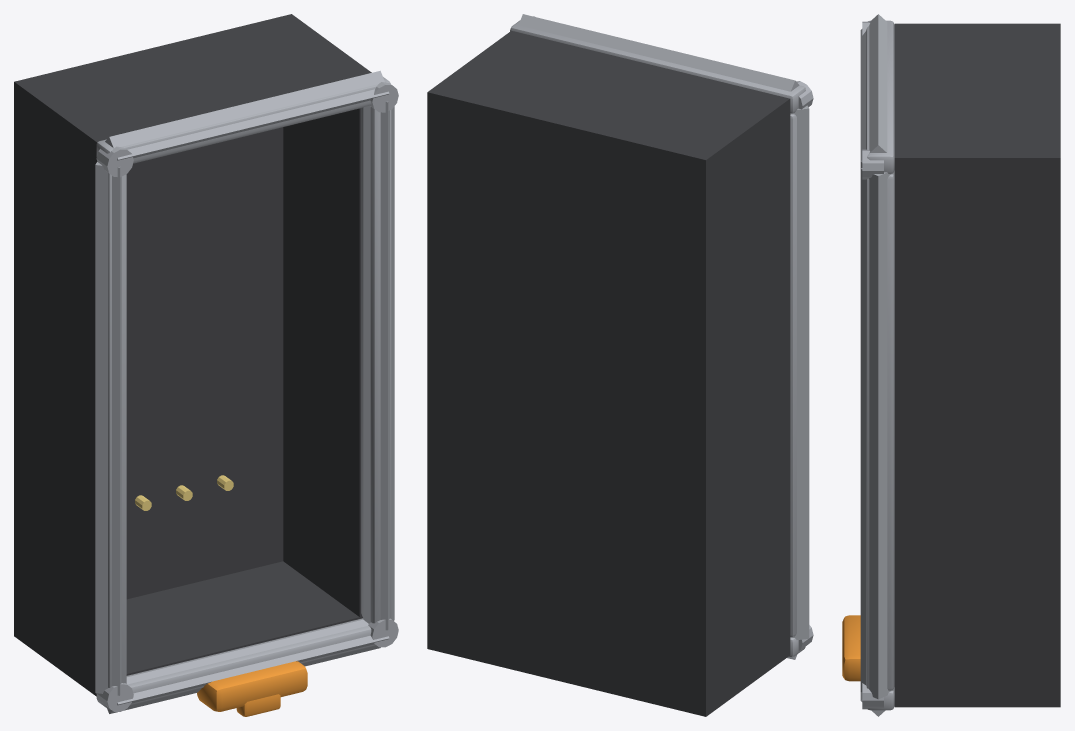
File: BAY.glb
The picture shows the model from 3 angles, left to right: view 1: azimuth 30°, elevation 25°; view 2: azimuth 150°, elevation 25°; view 3: azimuth 270°, elevation 25°; orthographic projection.
Parts seen in each view (by area): view 1: BAY_floor, BAY_wellX.001, BAY_wellX, BAY_wellY, BAY_wellY.001, BAY_chamX.001, BAY_chamX, BAY_collarX, BAY_chamY, BAY_collarX.001, BAY_chamY.001, BAY_collarY.001 (+6 smaller); view 2: BAY_floor, BAY_wellX.001, BAY_wellY, BAY_chamX.001, BAY_collarX.001, BAY_chamY, BAY_collarY, BAY_wellY.001; view 3: BAY_wellX, BAY_wellY, BAY_chamX, BAY_floor, BAY_collarX, BAY_chamY, BAY_wellY.001, BAY_collarY, BAY_latch, BAY_boss.
Boxes of the visible parts, x1=… form: BAY_floor: x1=14, y1=14, x2=294, y2=639; BAY_wellX.001: x1=17, y1=101, x2=97, y2=678; BAY_wellX: x1=283, y1=108, x2=362, y2=616; BAY_wellY: x1=17, y1=16, x2=371, y2=158; BAY_wellY.001: x1=17, y1=561, x2=362, y2=696; BAY_chamX.001: x1=95, y1=162, x2=121, y2=695; BAY_chamX: x1=363, y1=101, x2=394, y2=630; BAY_collarX: x1=361, y1=106, x2=391, y2=623; BAY_chamY: x1=105, y1=70, x2=389, y2=163; BAY_collarX.001: x1=108, y1=173, x2=126, y2=687; BAY_chamY.001: x1=107, y1=619, x2=389, y2=713; BAY_collarY.001: x1=96, y1=618, x2=376, y2=709; BAY_floor: x1=427, y1=89, x2=709, y2=716; BAY_wellX.001: x1=709, y1=115, x2=790, y2=697; BAY_wellY: x1=431, y1=30, x2=790, y2=173; BAY_chamX.001: x1=790, y1=105, x2=809, y2=639; BAY_collarX.001: x1=790, y1=114, x2=796, y2=636; BAY_chamY: x1=518, y1=14, x2=799, y2=91; BAY_collarY: x1=510, y1=20, x2=805, y2=113; BAY_wellY.001: x1=709, y1=639, x2=790, y2=713; BAY_wellX: x1=894, y1=174, x2=1053, y2=690; BAY_wellY: x1=894, y1=23, x2=1053, y2=174; BAY_chamX: x1=860, y1=168, x2=894, y2=699; BAY_floor: x1=1046, y1=23, x2=1060, y2=707; BAY_collarX: x1=866, y1=174, x2=894, y2=690; BAY_chamY: x1=860, y1=14, x2=887, y2=162; BAY_wellY.001: x1=894, y1=691, x2=1046, y2=707; BAY_collarY: x1=866, y1=20, x2=894, y2=173; BAY_latch: x1=842, y1=615, x2=860, y2=681; BAY_boss: x1=862, y1=149, x2=883, y2=179.
Bounding box in the file's own units: 0.0949 × 0.1809 × 0.0605.
